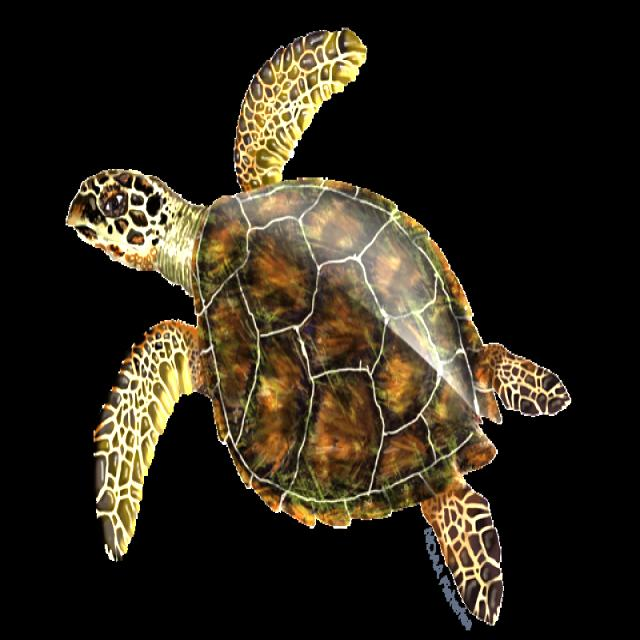Sea turtle: (48, 25, 577, 640)
